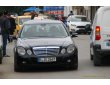License Plates: (38, 56, 56, 62), (77, 27, 86, 31)
